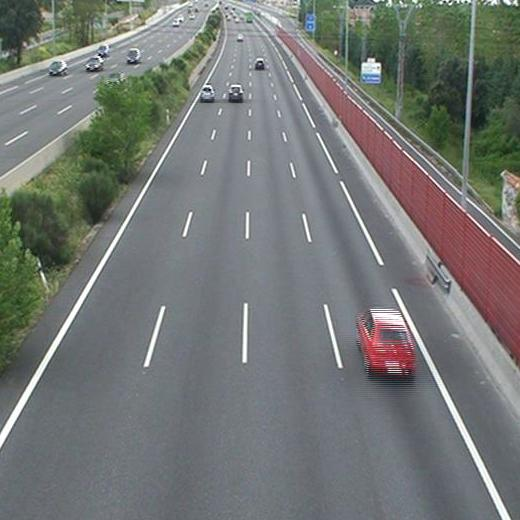car: (358, 312, 414, 374), (200, 85, 215, 102), (228, 85, 243, 100), (255, 58, 265, 69)
